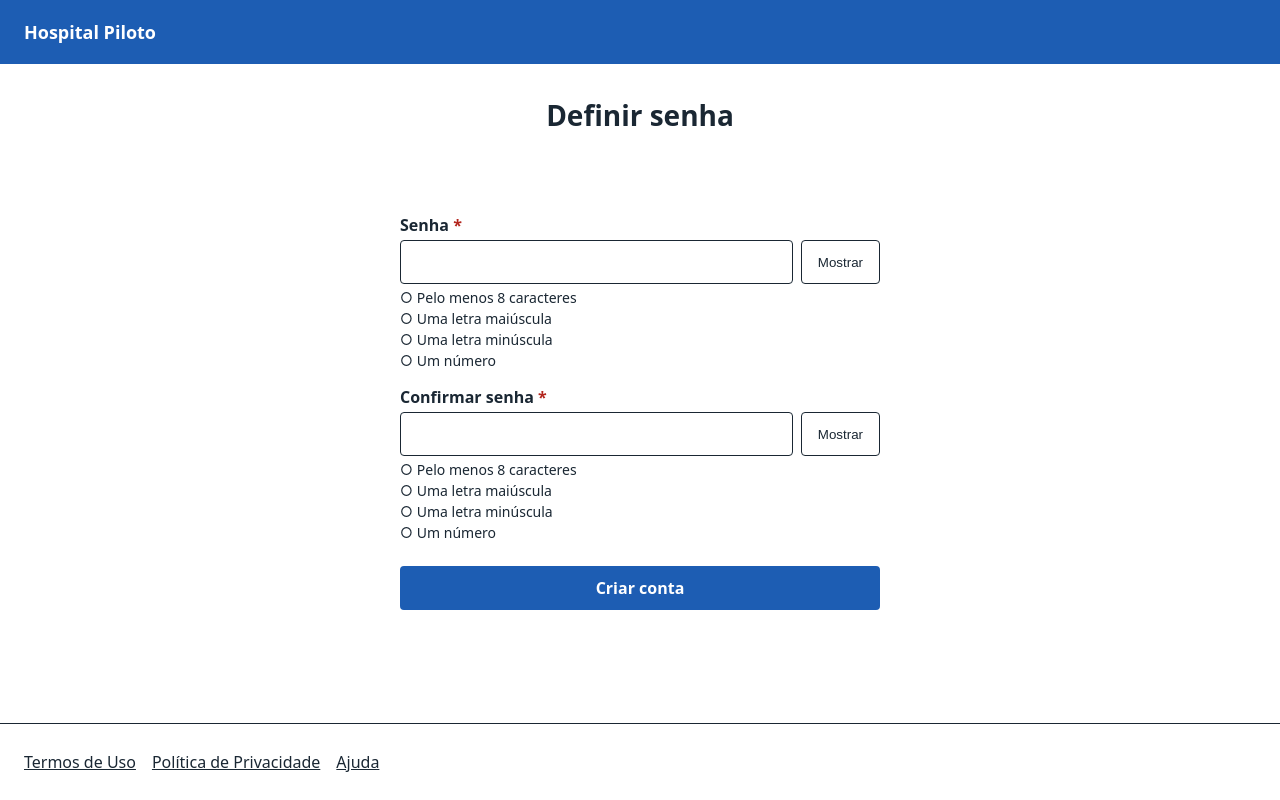
CadastroDefinirSenhaPage (TL-06 — Definir Senha) › falha ao criar a conta exibe mensagem de erro inline e permite nova tentativa, sem navegar
The width and height of the screenshot is (1280, 800).
Type "Abcdef12" into the password field labelled "Senha *".
click(596, 262); type("Abcdef12")  # box 400,240 -> 793,284
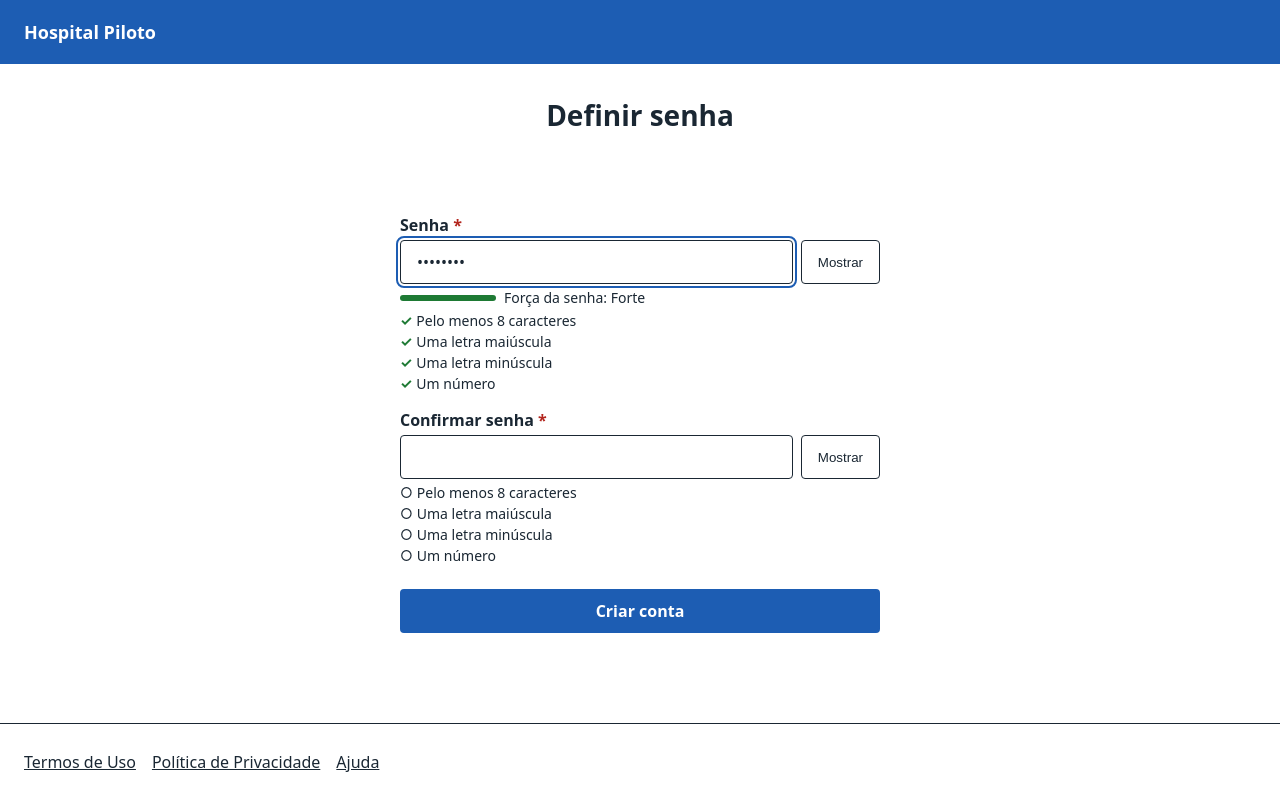
Type "Abcdef12" into the password field labelled "Confirmar senha *".
click(596, 457); type("Abcdef12")  # box 400,435 -> 793,479
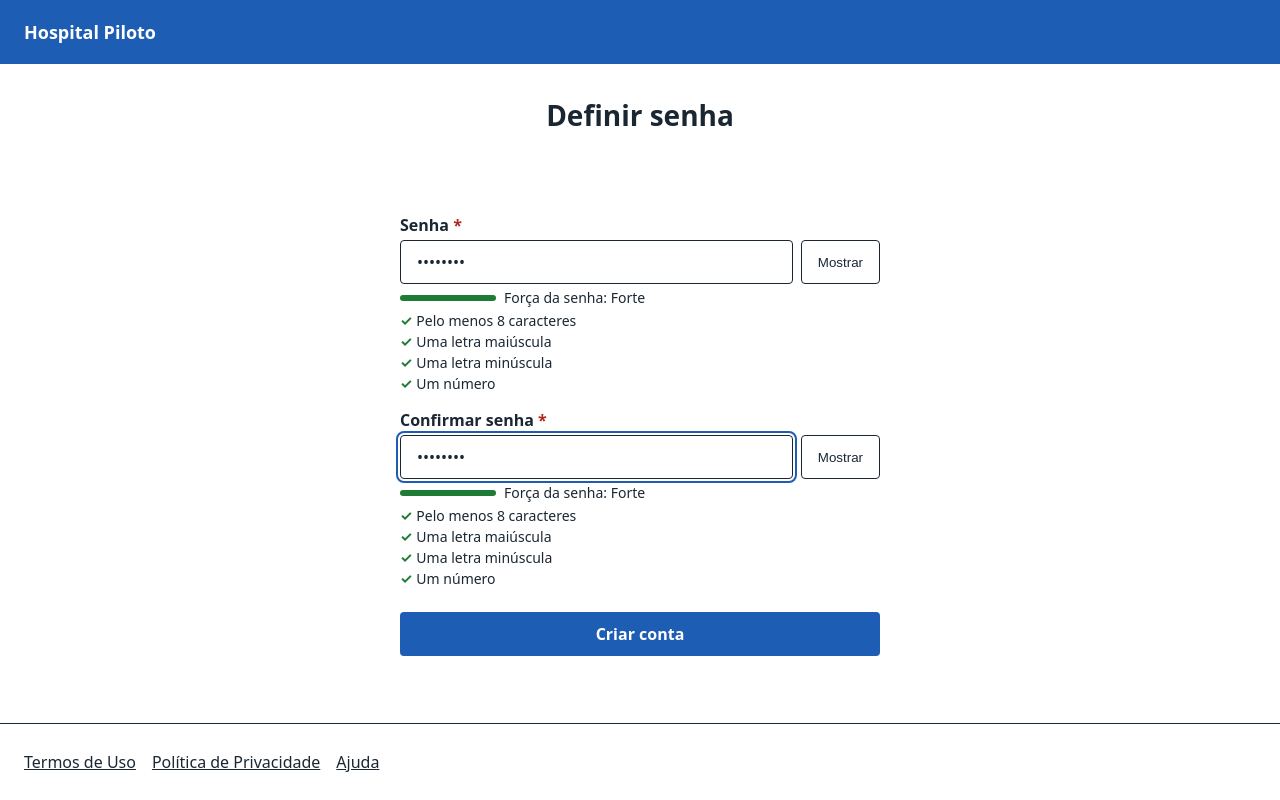
Click the button "Criar conta".
click(640, 634)  # box 400,612 -> 880,656
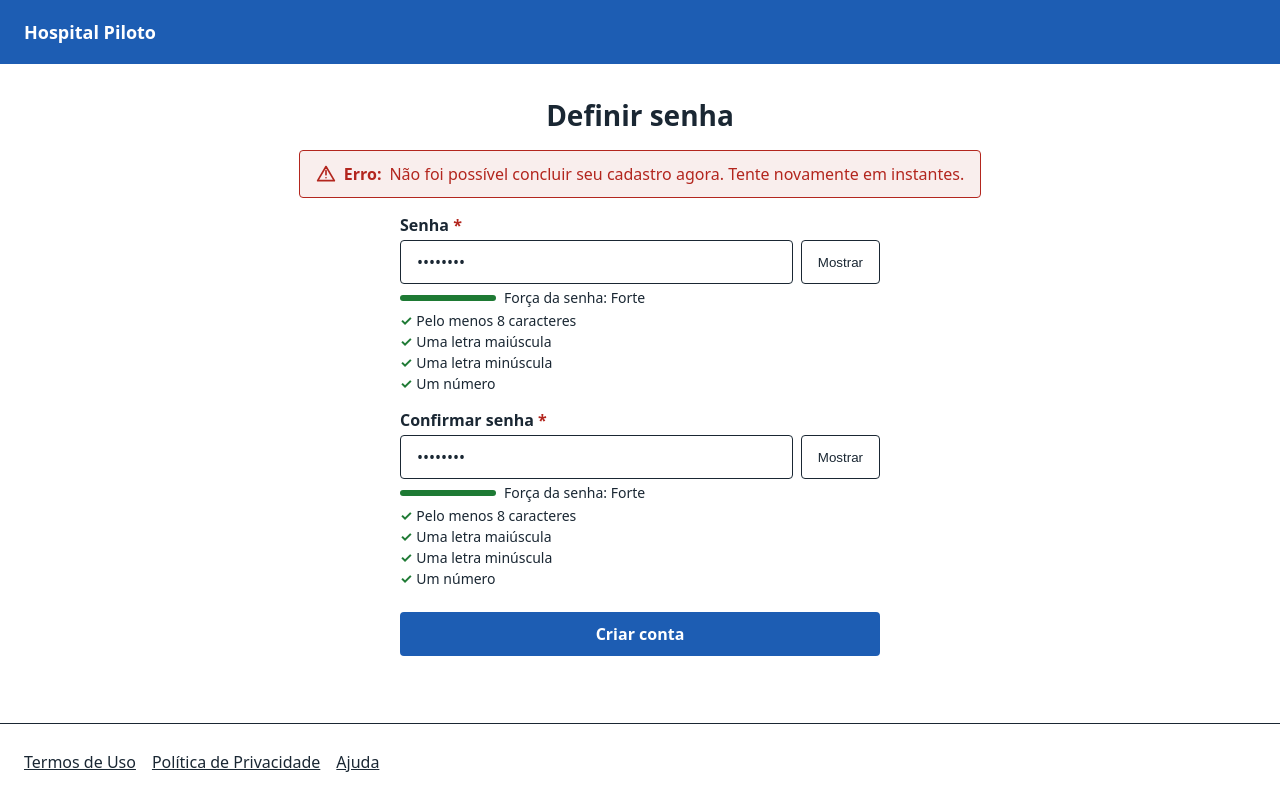
Expected: the heading "Definir senha" is shown, 546,96 -> 734,134
Expected: the text "Não foi possível concluir seu cadastro agora. Tente novamente em instantes." is shown, 389,163 -> 964,185
